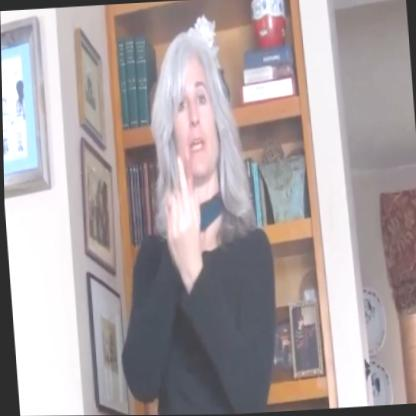NiceToMeetYou: (149, 146, 205, 266)
